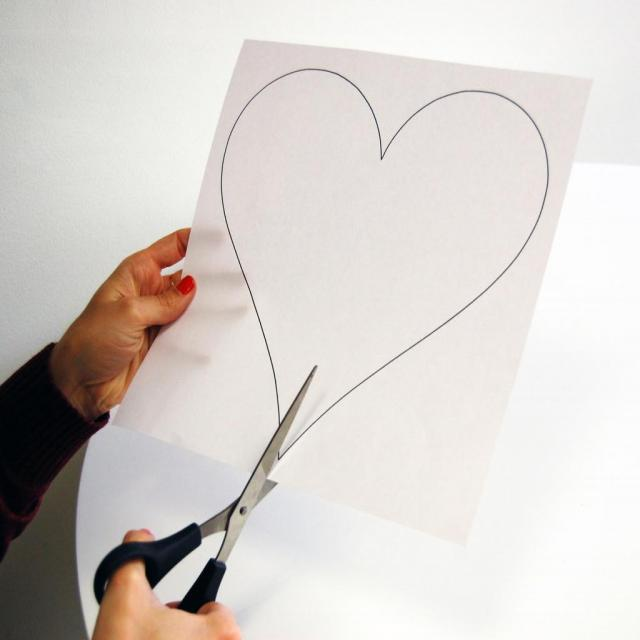scissor: (95, 362, 320, 616)
